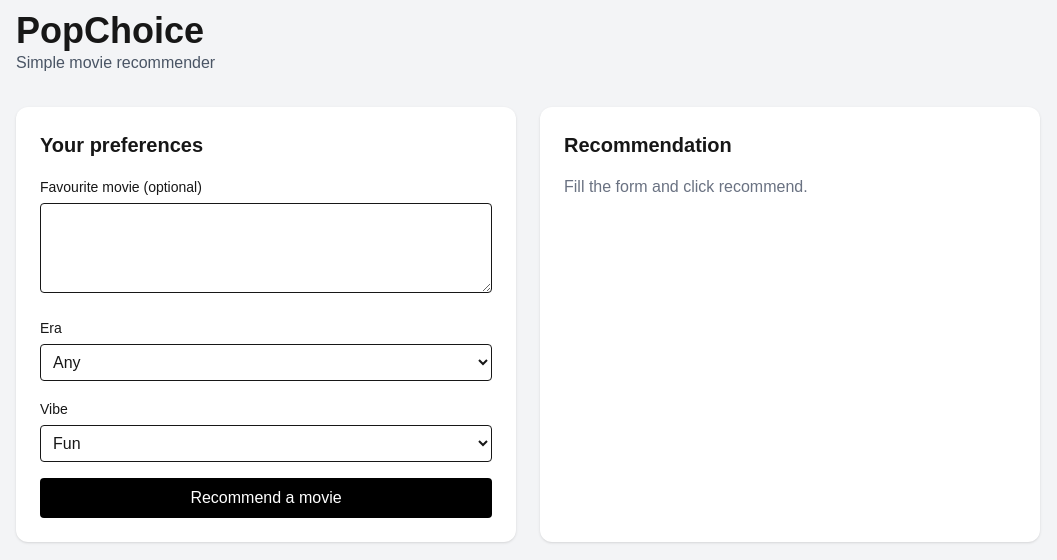
Test case: Page › shows loading state when submitting
Step 1. Click the button "Recommend a movie" → (266, 498), box [40,478,492,518]
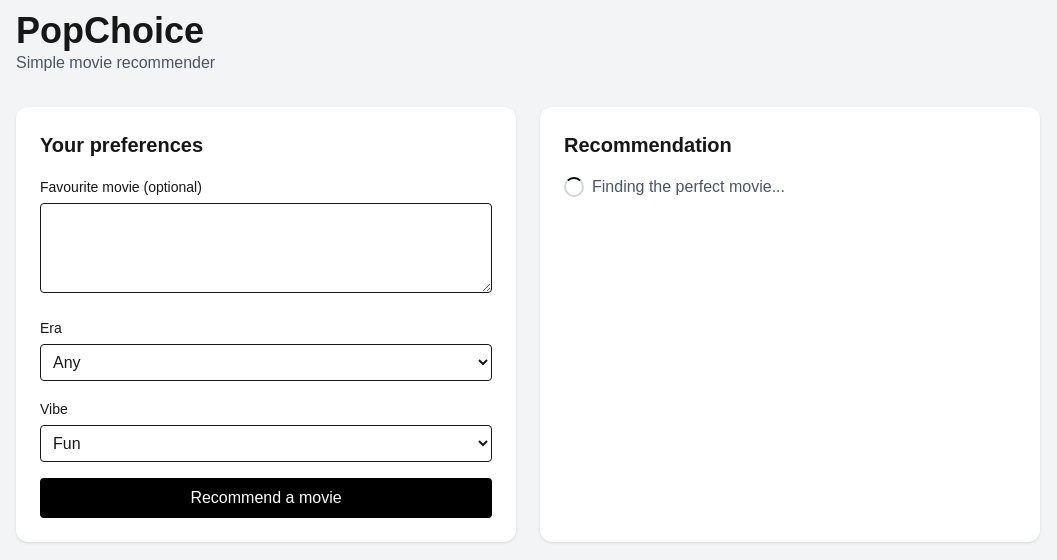
Expected: the text "Finding the perfect movie..." is shown, [592,175,785,199]
